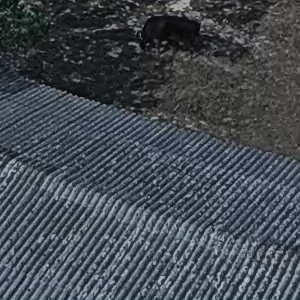cow: (127, 12, 224, 51)
